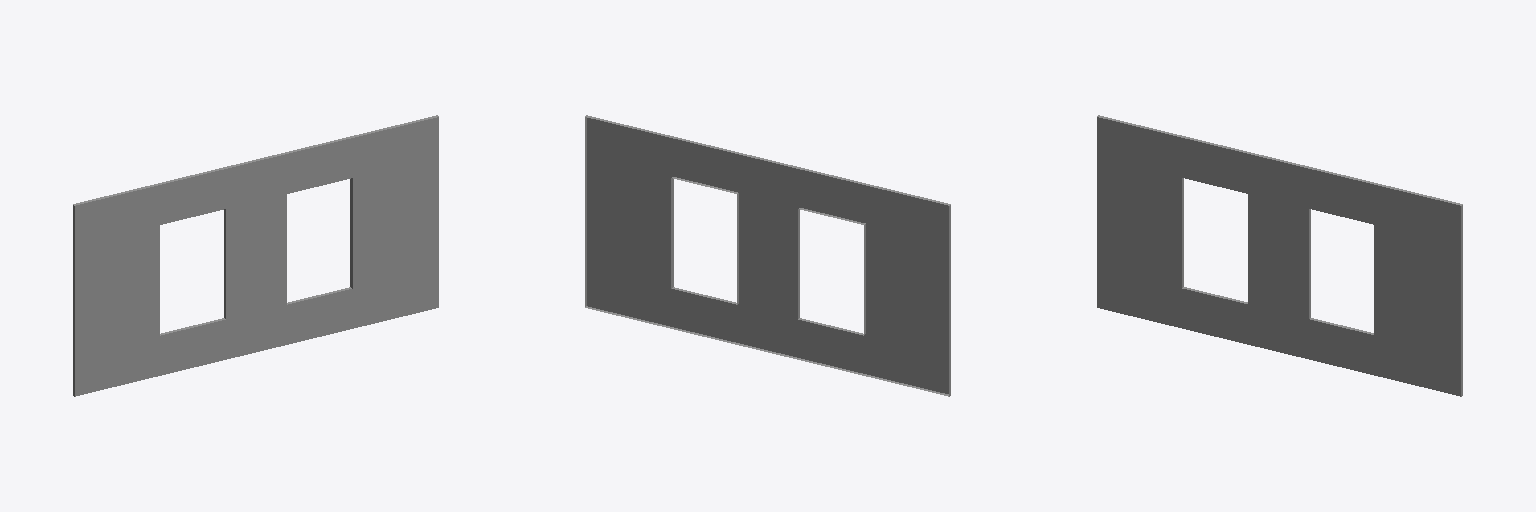
Rendered from wallWindows.obj.
3 views of the same model, side by side, from view 1: azimuth 30°, elevation 25°; view 2: azimuth 150°, elevation 25°; view 3: azimuth 330°, elevation 25° (orthographic).
Visible parts, largest first — view 1: Cube; view 2: Cube; view 3: Cube.
Boxes of the visible parts, x1,y1,x2,y2 form: Cube: [73, 115, 438, 396]; Cube: [585, 115, 950, 396]; Cube: [1097, 115, 1462, 396].
Size of the model in its own units: 10 by 5 by 0.1.